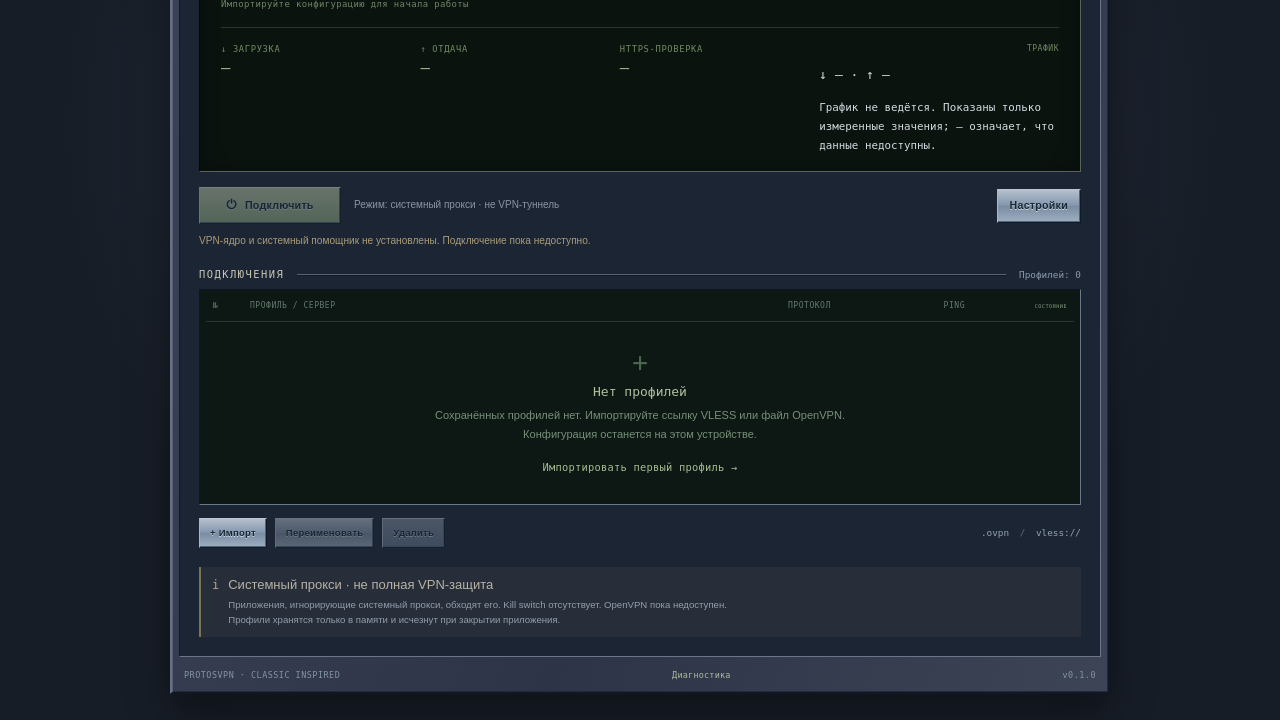
Scenario: Stage 1 › fetches diagnostics on demand and renders only allowlisted non-secret fields
(page scrolled)
Check: the heading "Нет профилей" is shown, box [593,384,687,399]
What coordinates should you click on to do the following:
click the button "Диагностика"
I would click on:
 (701, 675)
Its box is [672,667,731,683].
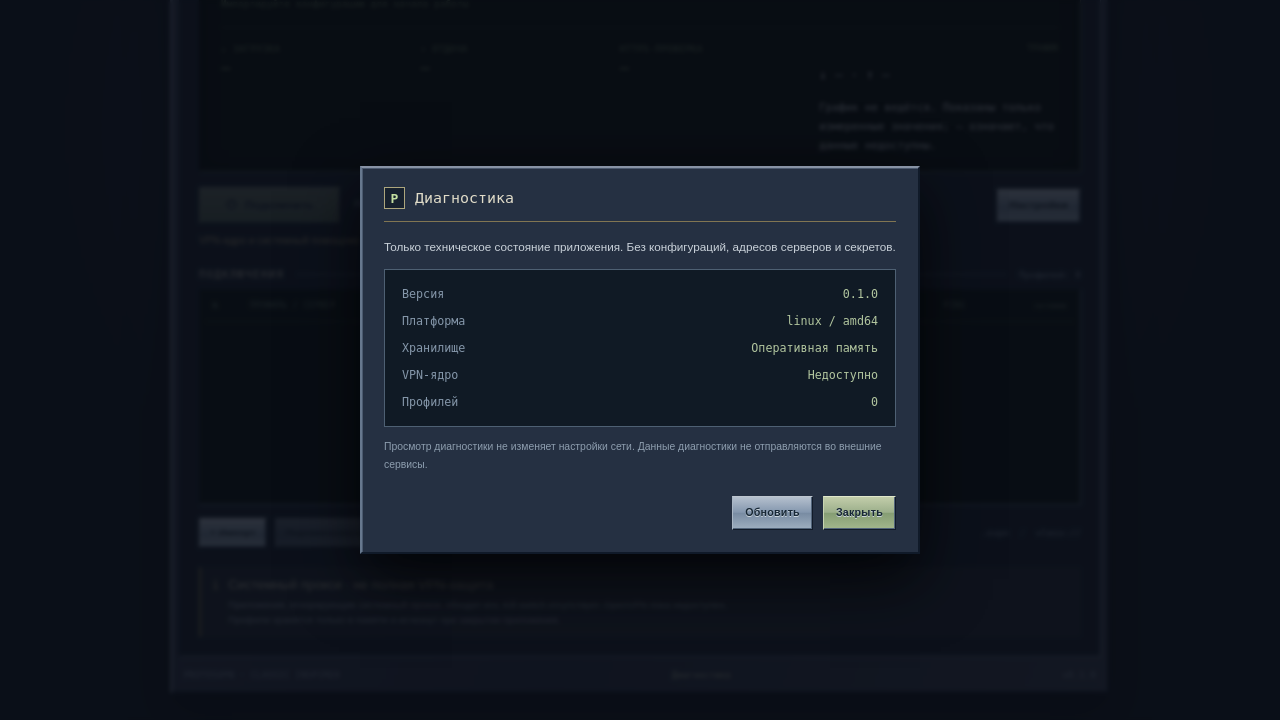
Check: the text "linux / amd64" is shown, box [786,314,878,328]
What coordinates should you click on to do the following:
click the button "Закрыть"
I would click on:
 (859, 513)
Its box is [823,496,896,530].
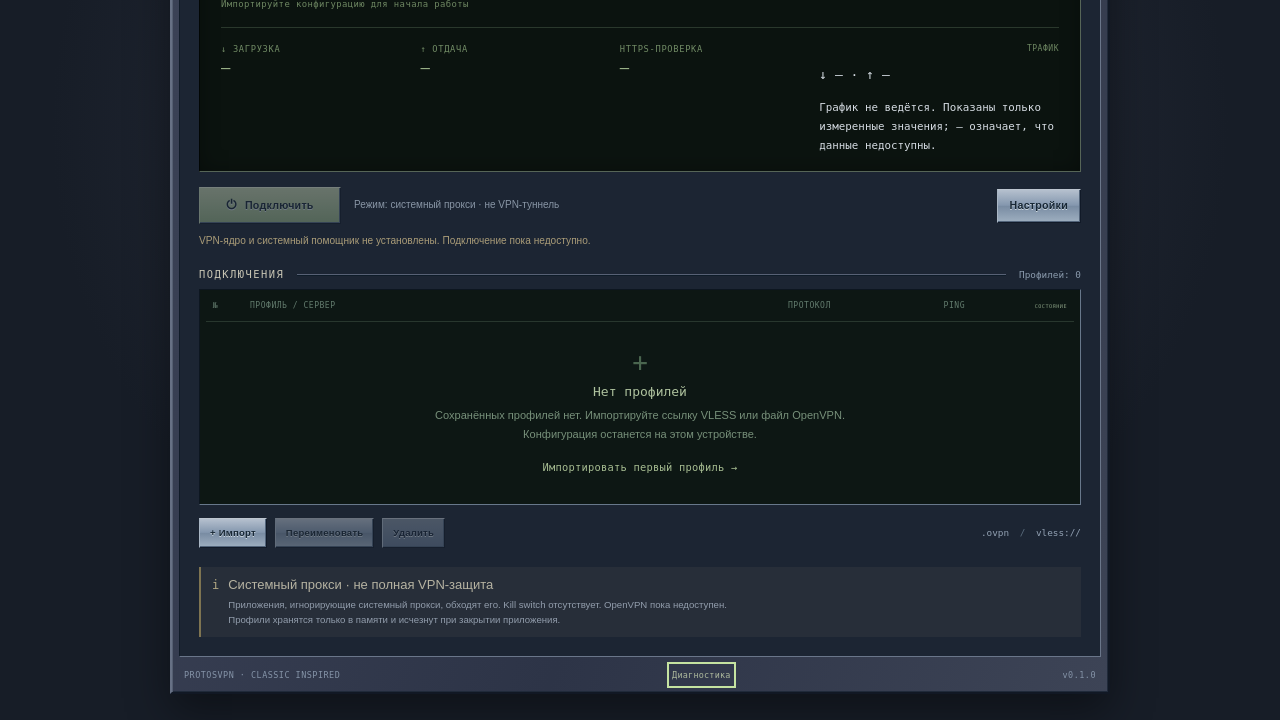
Check: the dialog is gone
